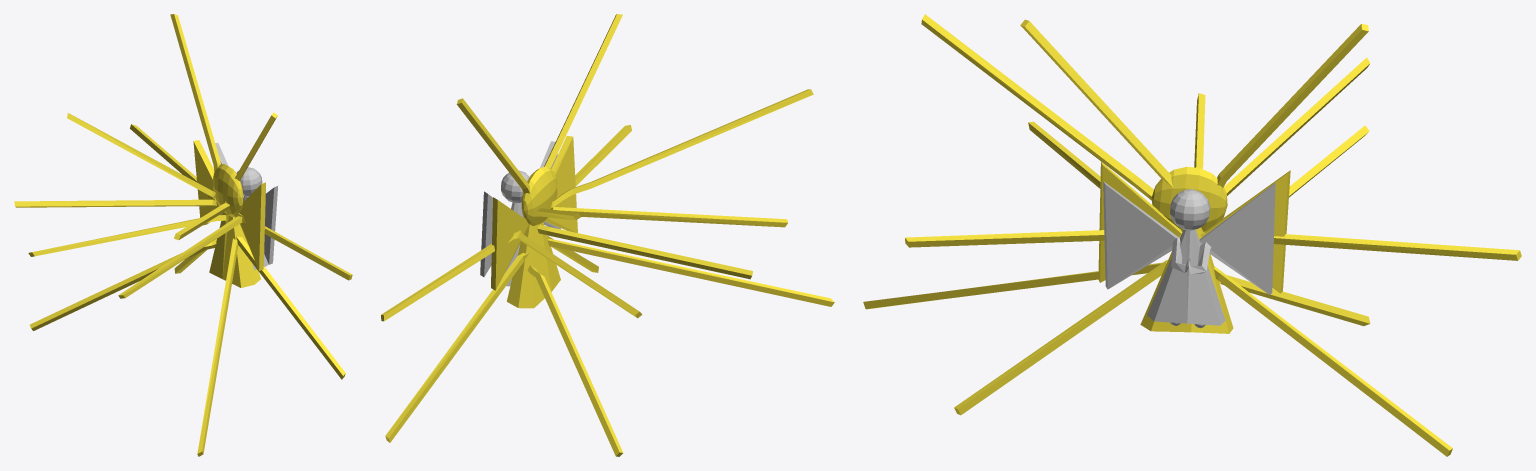
The picture shows the model from 3 angles, left to right: view 1: azimuth 30°, elevation 25°; view 2: azimuth 150°, elevation 25°; view 3: azimuth 270°, elevation 25°; orthographic projection. The views are drawn at different scales.
Size of the model in its own units: 1.78 by 2.07 by 3.02.
